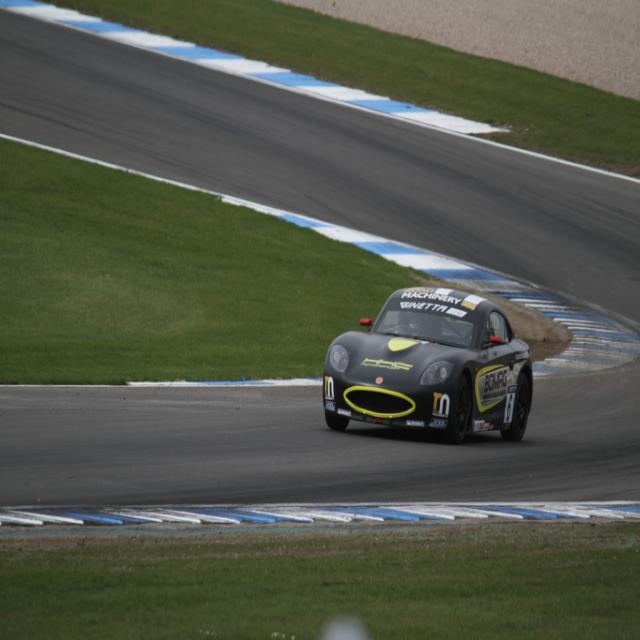car: (321, 280, 531, 440)
